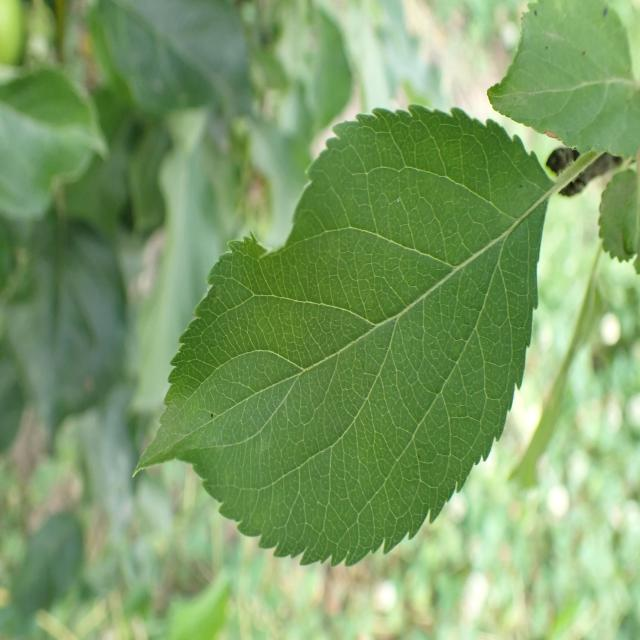healthy: (131, 104, 550, 567), (486, 0, 640, 160), (0, 66, 110, 219)
